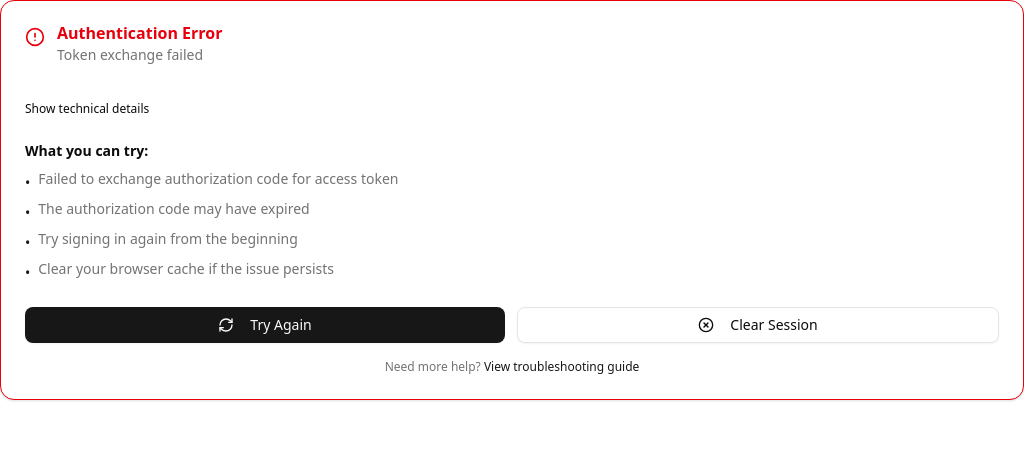
AuthErrorRecovery › should toggle technical details visibility
Expected: the text "Error: Failed to exchange authorization code" is not shown
// Click to show details
Click the button "Show technical details" at (87, 109), box 25,101 -> 149,117
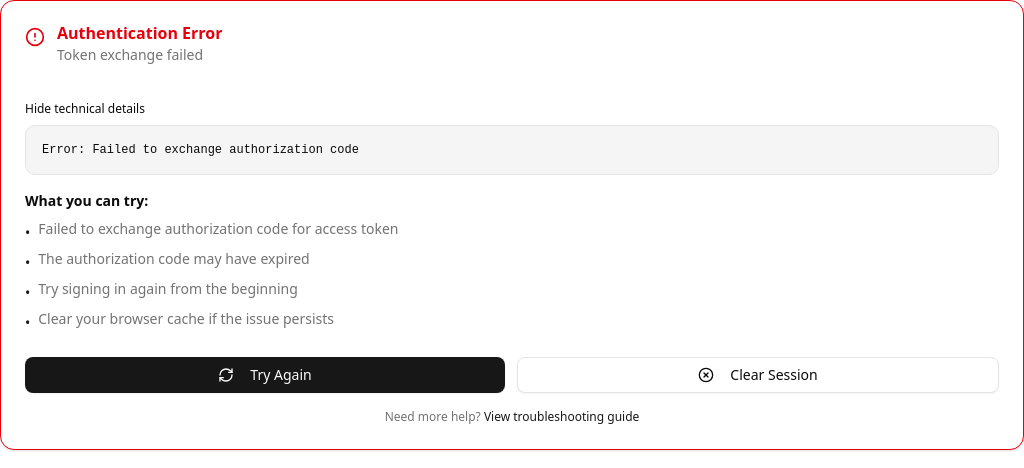
Result: the text "Error: Failed to exchange authorization code" is shown at 42,143 -> 359,157
// Click to hide details
Click the button "Hide technical details" at (85, 109), box 25,101 -> 145,117
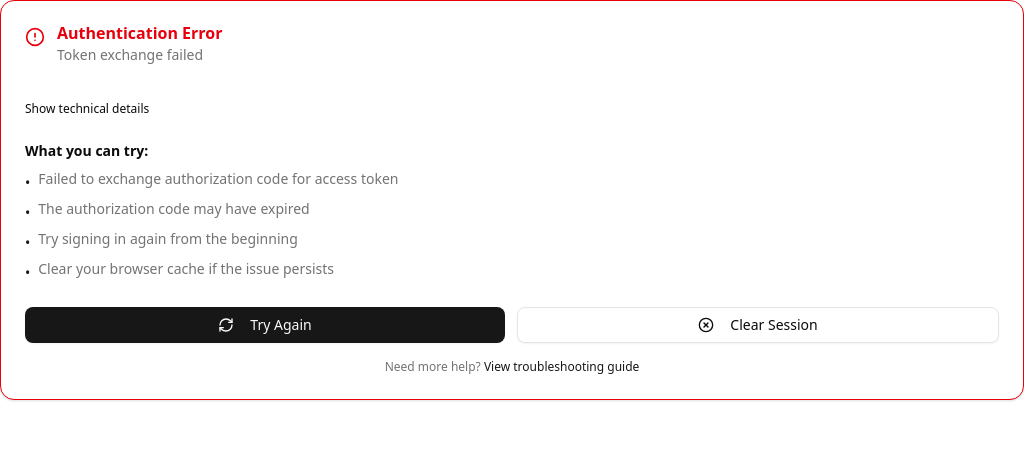
Result: the text "Error: Failed to exchange authorization code" is gone
